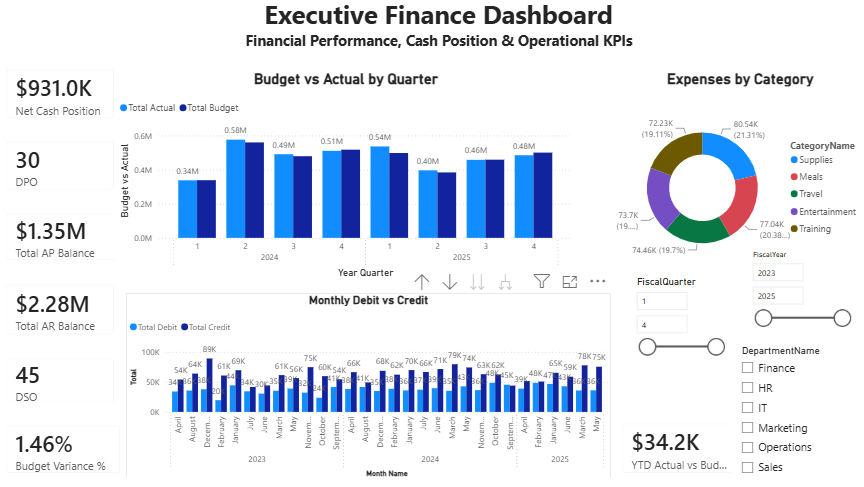

The dashboard page shown, as its layout file describes it:
{"tool":"powerbi","page":{"name":"Page 1","canvas":[1280,720],"ordinal":0},"visuals":[{"type":"cardVisual","title":"Net Cash Position","fields":{"Data":["dw FactGeneralLedger.Net Cash Position"]},"box":[0,95,191.7,105],"z":0},{"type":"textbox","box":[0,0,1269.9,95.7],"z":1000},{"type":"cardVisual","title":"DPO ","fields":{"Data":["dw FactAccountsPayable.DPO"]},"box":[0,200,191.5,104.1],"z":2000},{"type":"cardVisual","title":"Total AP Balance","fields":{"Data":["dw FactAccountsPayable.Total AP Balance"]},"box":[0,305.7,200,102.9],"z":3000},{"type":"cardVisual","title":"Total AR Balance","fields":{"Data":["dw FactAccountsReceivable.Total AR Balance"]},"box":[0,410,191.5,107.5],"z":4000},{"type":"cardVisual","title":"DSO","fields":{"Data":["dw FactAccountsReceivable.DSO"]},"box":[0,518.3,191.7,98.3],"z":5000},{"type":"cardVisual","fields":{"Data":["dw FactBudgetForecast.Budget Variance %"]},"box":[0,616.7,200,103.3],"z":6000},{"type":"clusteredColumnChart","title":"Budget vs Actual by Quarter","fields":{"Category":["dw DimDate.FiscalYear","dw DimDate.FiscalQuarter"],"Y":["dw FactBudgetForecast.Total Actual","dw FactBudgetForecast.Total Budget"]},"box":[177.1,112.9,672.9,310],"z":7000},{"type":"donutChart","title":"Expenses by Category","fields":{"Category":["dw DimExpenseCategory.CategoryName"],"Y":["dw FactExpenseClaims.Total Expenses by Category"]},"box":[901.7,113.3,378.3,310],"z":8000},{"type":"clusteredColumnChart","title":"Monthly Debit vs Credit","fields":{"Category":["dw DimDate.FiscalYear","dw DimDate.MonthName"],"Y":["dw FactGeneralLedger.Total Debit","dw FactGeneralLedger.Total Credit"]},"box":[191.7,438.3,710,275],"z":9000},{"type":"actionButton","box":[0,0,100,40],"z":10000},{"type":"cardVisual","fields":{"Data":["dw FactBudgetForecast.YTD Actual vs Budget"]},"box":[901.7,613.3,198.3,106.7],"z":10001},{"type":"slicer","fields":{"Values":["dw DimDepartment.DepartmentName"]},"box":[1080,510,200,205],"z":10003},{"type":"slicer","fields":{"Values":["dw DimDate.FiscalYear"]},"box":[1096.7,371.7,165,138.3],"z":10004},{"type":"slicer","fields":{"Values":["dw DimDate.FiscalQuarter"]},"box":[926.7,410,150,158.3],"z":10005}]}

Visuals, with their boxes in screenshot pixels (x1, y1, x2, y2), scaled from the page's 1280x720 canvas onto the 864x487 screenshot:
"Net Cash Position" cardVisual: box(0, 64, 129, 135)
textbox: box(0, 0, 857, 65)
"DPO " cardVisual: box(0, 135, 129, 206)
"Total AP Balance" cardVisual: box(0, 207, 135, 276)
"Total AR Balance" cardVisual: box(0, 277, 129, 350)
"DSO" cardVisual: box(0, 351, 129, 417)
cardVisual - dw FactBudgetForecast.Budget Variance %: box(0, 417, 135, 486)
"Budget vs Actual by Quarter" clusteredColumnChart: box(120, 76, 574, 286)
"Expenses by Category" donutChart: box(609, 77, 863, 286)
"Monthly Debit vs Credit" clusteredColumnChart: box(129, 296, 609, 482)
actionButton: box(0, 0, 68, 27)
cardVisual - dw FactBudgetForecast.YTD Actual vs Budget: box(609, 415, 742, 486)
slicer - dw DimDepartment.DepartmentName: box(729, 345, 863, 484)
slicer - dw DimDate.FiscalYear: box(740, 251, 852, 345)
slicer - dw DimDate.FiscalQuarter: box(626, 277, 727, 384)
